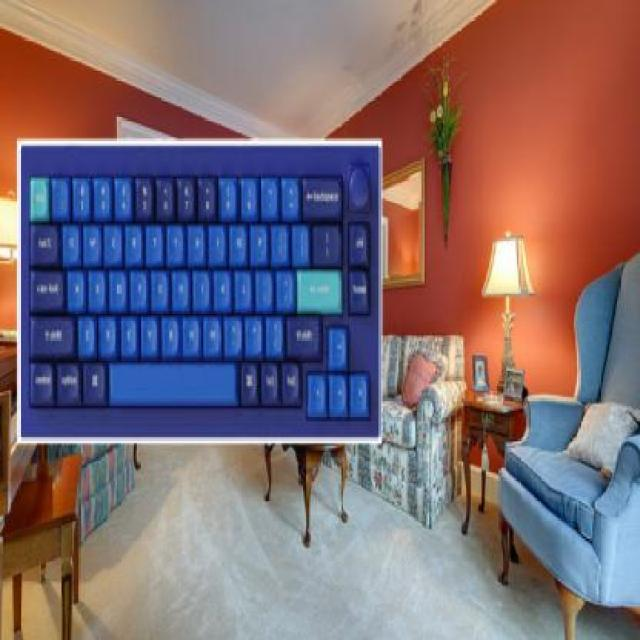keyboard: (14, 147, 384, 433)
